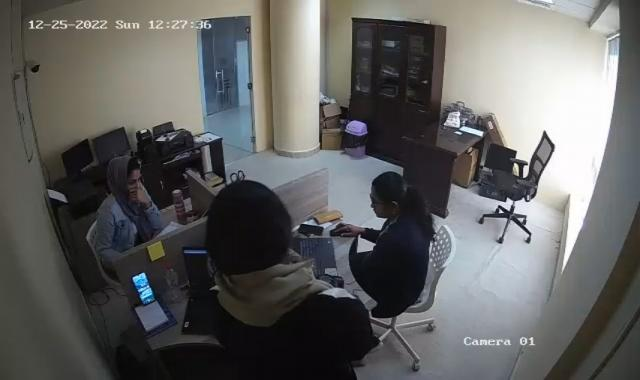no_hairnet: (205, 182, 295, 276), (368, 171, 408, 220), (109, 157, 144, 190)
